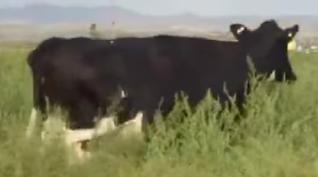cow: (27, 19, 300, 161)
